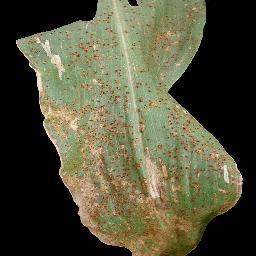Corn_Common_Rust: (14, 0, 247, 256)
